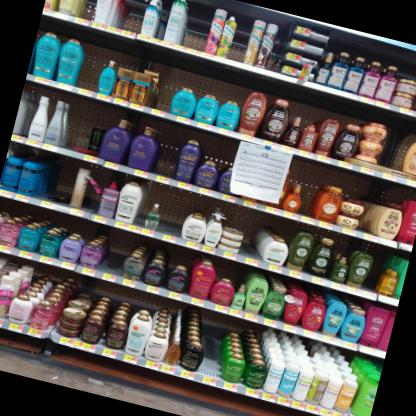empty_space: (39, 154, 81, 206), (150, 125, 187, 178), (198, 314, 227, 375), (180, 0, 215, 50), (74, 41, 108, 92), (61, 101, 96, 150), (96, 230, 132, 274), (374, 121, 406, 169), (150, 62, 181, 110), (158, 189, 189, 236), (79, 169, 109, 215), (361, 251, 390, 294), (226, 15, 252, 61), (297, 170, 320, 213), (119, 0, 149, 32), (238, 213, 260, 255), (134, 183, 155, 226), (77, 0, 102, 20)
